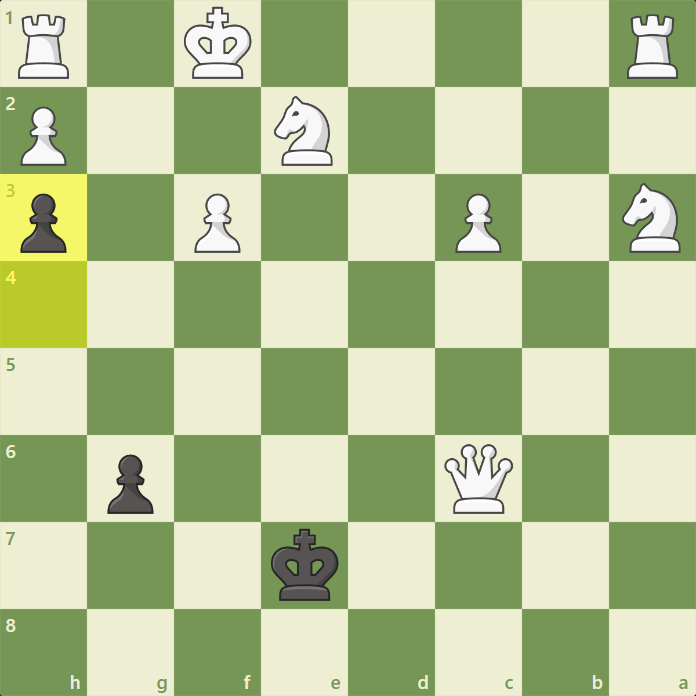K: (182, 3, 254, 82)
N: (619, 180, 684, 256), (272, 94, 336, 169)
P: (192, 192, 242, 255), (451, 192, 501, 255), (17, 105, 67, 168)
Q: (442, 441, 516, 516)
R: (16, 11, 74, 82), (625, 11, 681, 82)
k: (268, 527, 341, 603)
p: (17, 192, 69, 255), (105, 453, 155, 517)
